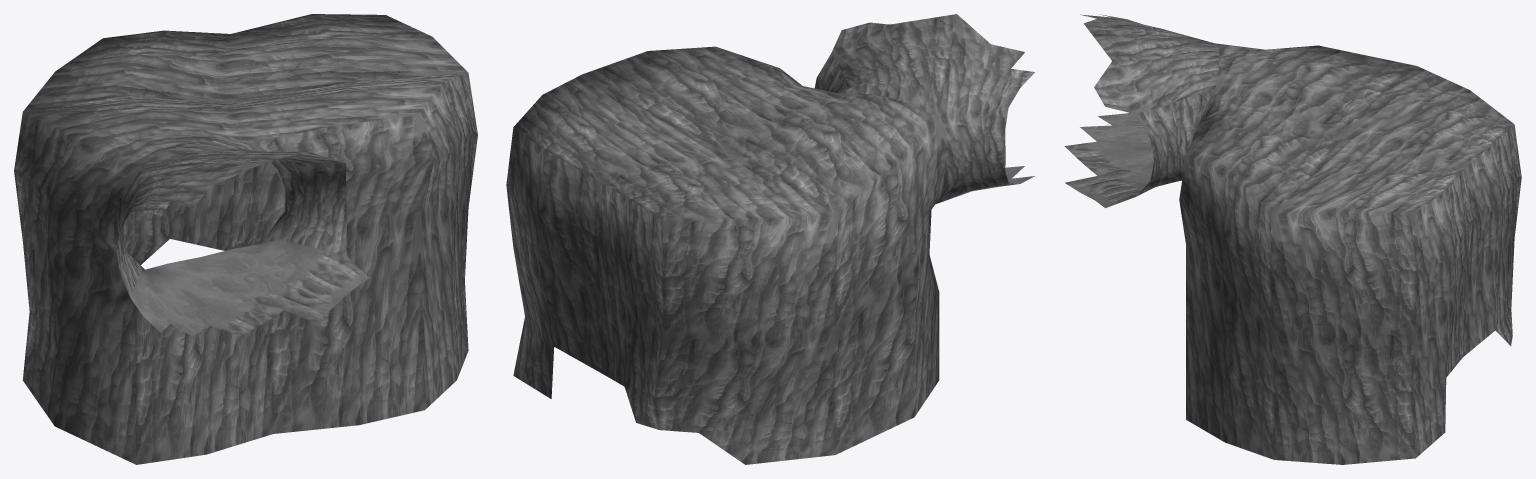
File: SWORDLIGHT20_PS-AREA02-03TRANS_01.obj
The picture shows the model from 3 angles, left to right: view 1: azimuth 30°, elevation 25°; view 2: azimuth 150°, elevation 25°; view 3: azimuth 270°, elevation 25°; orthographic projection. The views are drawn at different scales.
Parts seen in each view (by area): view 1: ea02-03Trans_01; view 2: ea02-03Trans_01; view 3: ea02-03Trans_01.
Boxes of the visible parts, x1,y1,x2,y2 form: ea02-03Trans_01: (14, 14, 477, 464); ea02-03Trans_01: (506, 14, 1034, 464); ea02-03Trans_01: (1064, 14, 1521, 464).
Bounding box in the file's own units: 2316 × 1783 × 2431.
